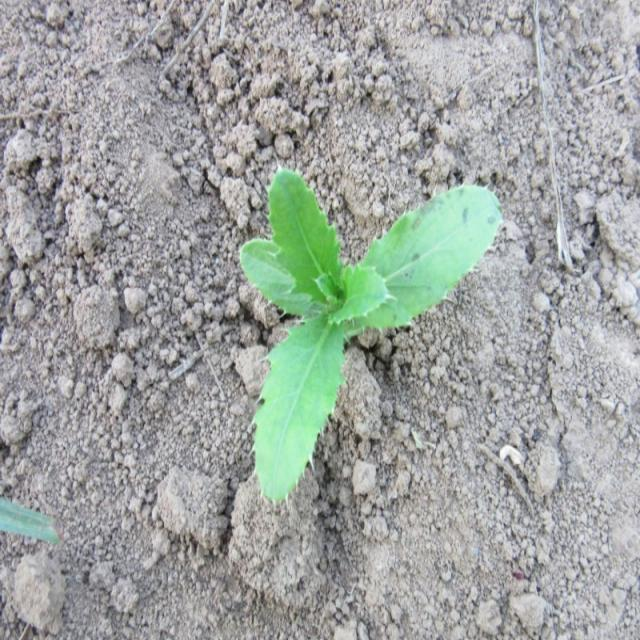cs: (238, 165, 504, 506)
